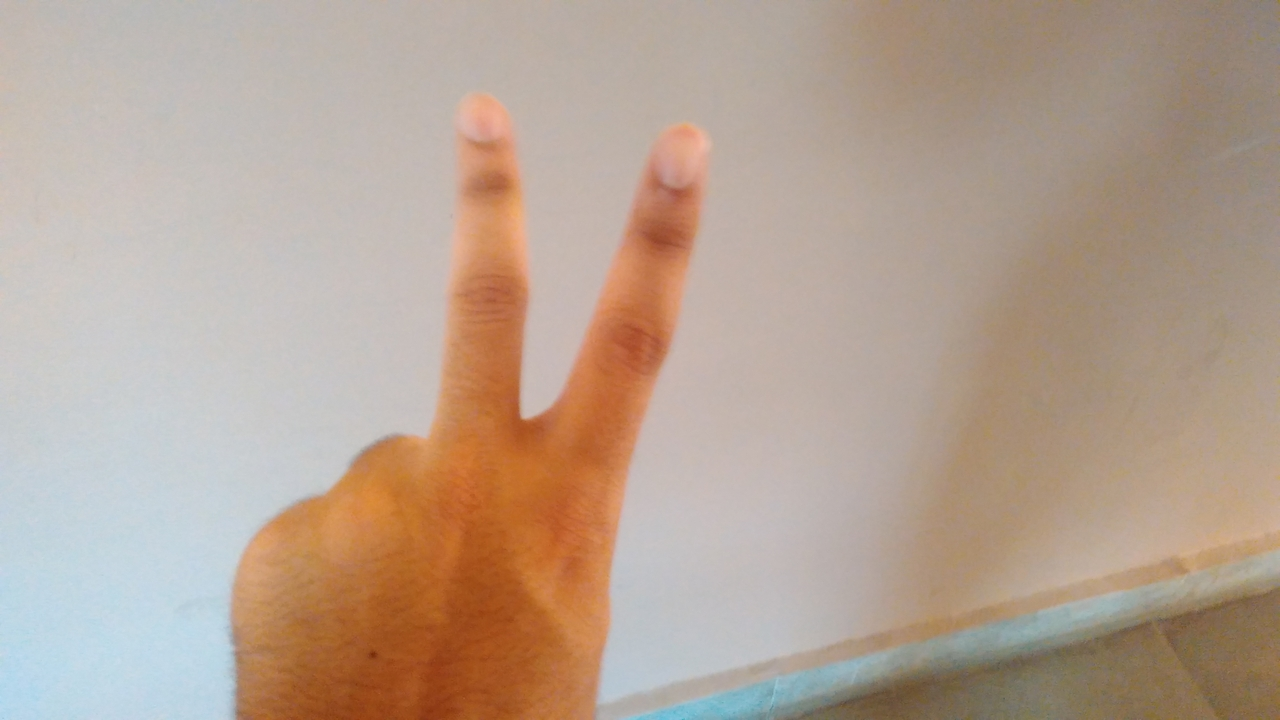fingertip: (634, 122, 714, 190), (448, 94, 516, 150)
